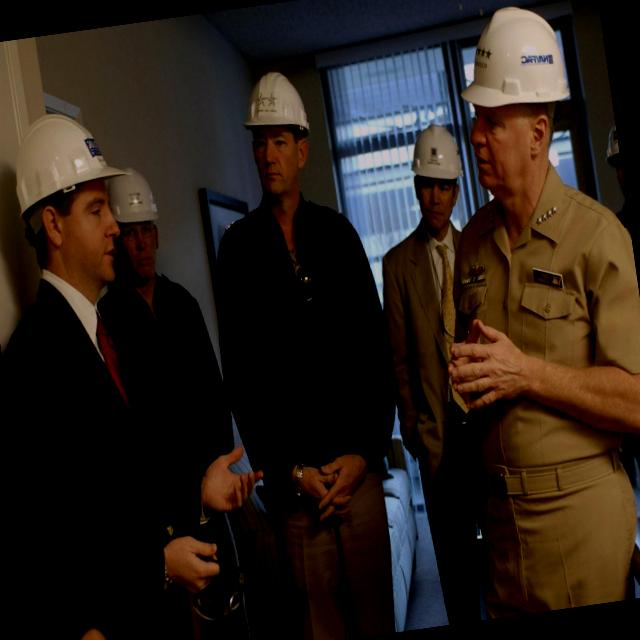helmet: (0, 103, 132, 220), (444, 0, 575, 116), (238, 60, 314, 140), (106, 155, 162, 233), (405, 118, 467, 184)
no-goggles: (32, 176, 134, 244), (461, 89, 558, 146), (242, 123, 316, 167), (408, 172, 466, 208)
no-vest: (445, 187, 640, 473), (6, 298, 159, 610), (219, 192, 387, 472), (108, 273, 216, 484), (382, 231, 473, 440)
